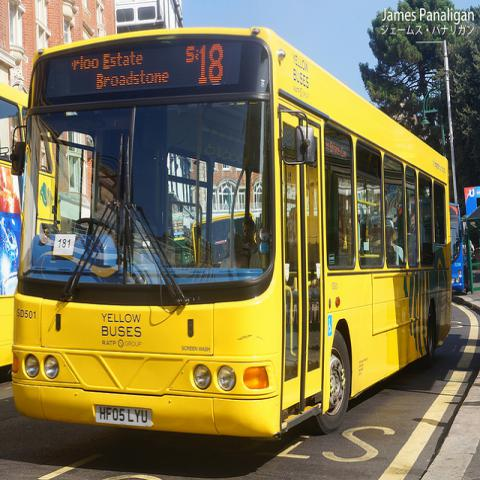bus: (11, 27, 452, 440), (0, 74, 28, 383), (448, 202, 466, 291)
